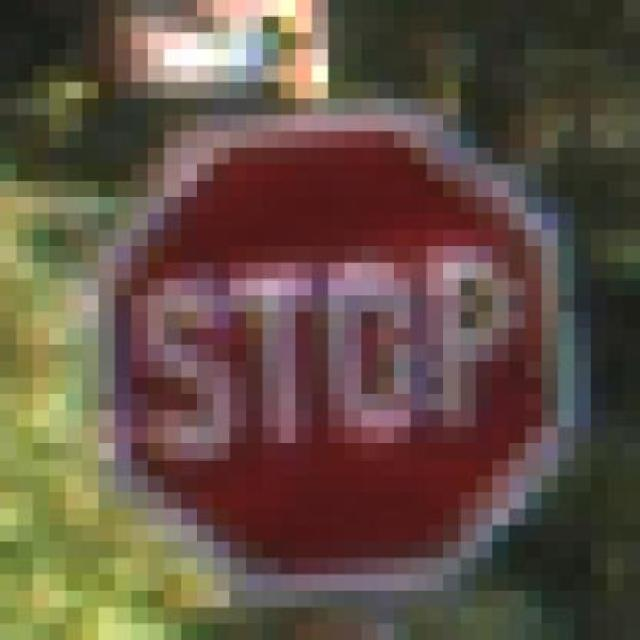Stop_Sign: (49, 82, 591, 608)
